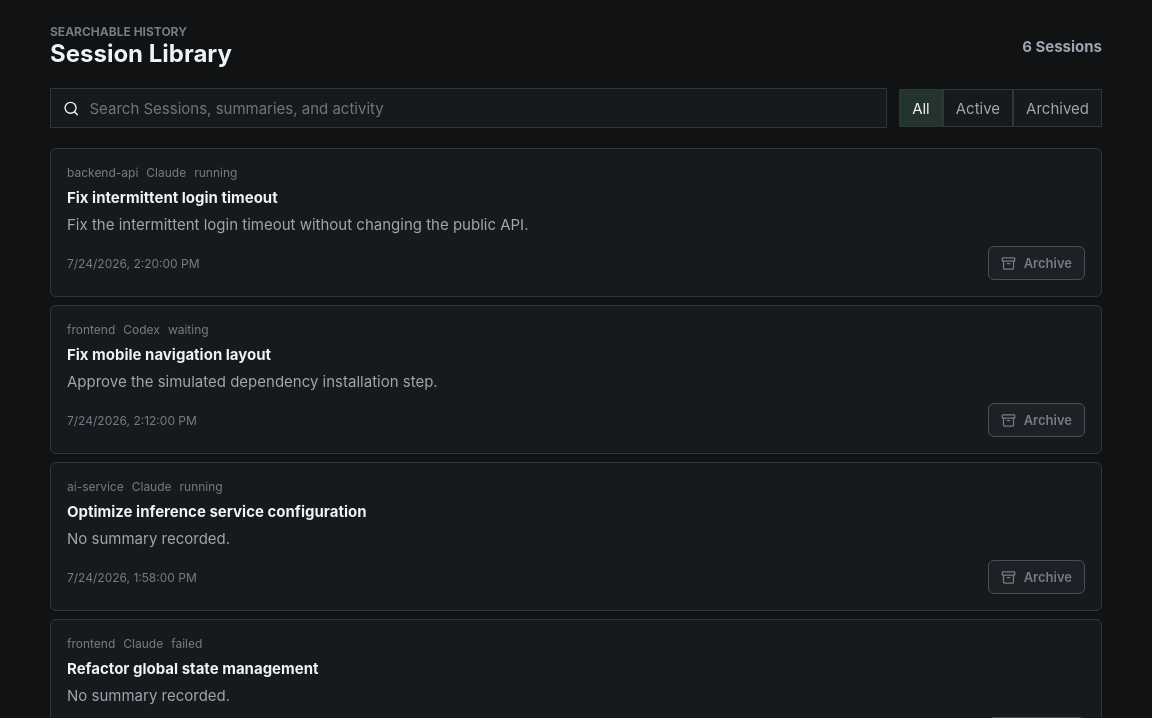
it: SessionLibraryPage › switches archive scopes and gives a clear empty result for a non-matching search
Expected: the heading "Session Library" is shown, [50,39,232,68]
Click the tab "Archived" at (1058, 108), box [1013,89,1102,127]
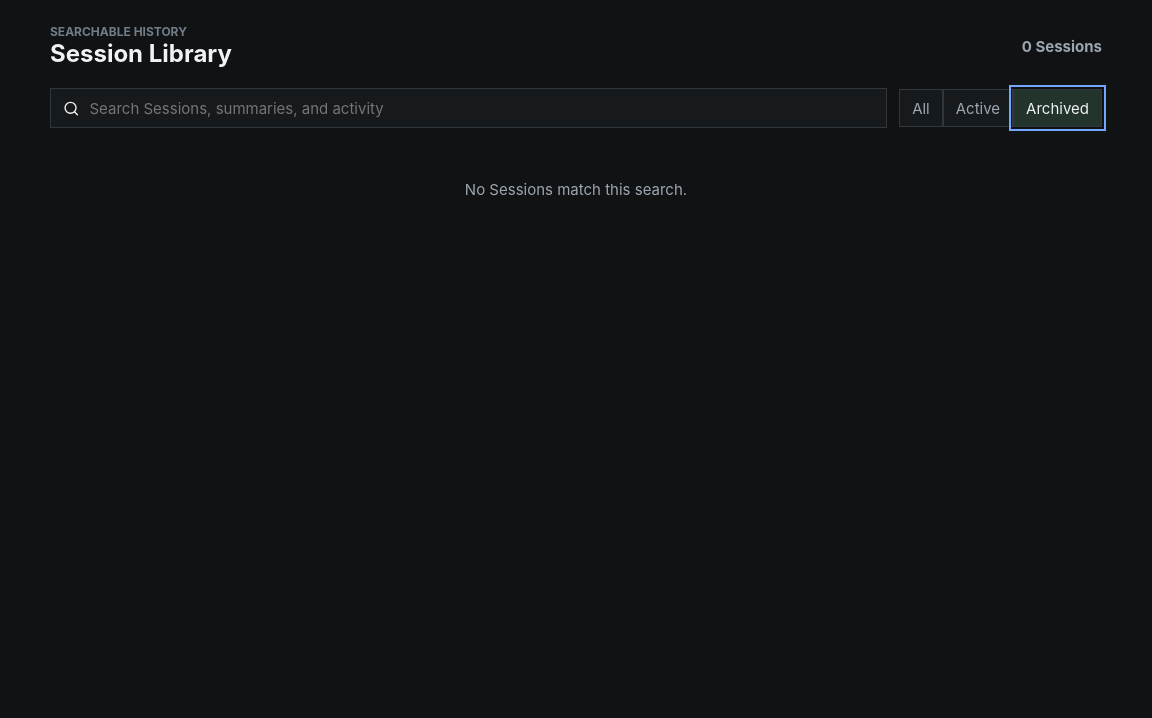
Expected: the text "No Sessions match this search." is shown, [465,180,687,199]
Click the tab "Active" at (978, 108), box [943,89,1013,127]
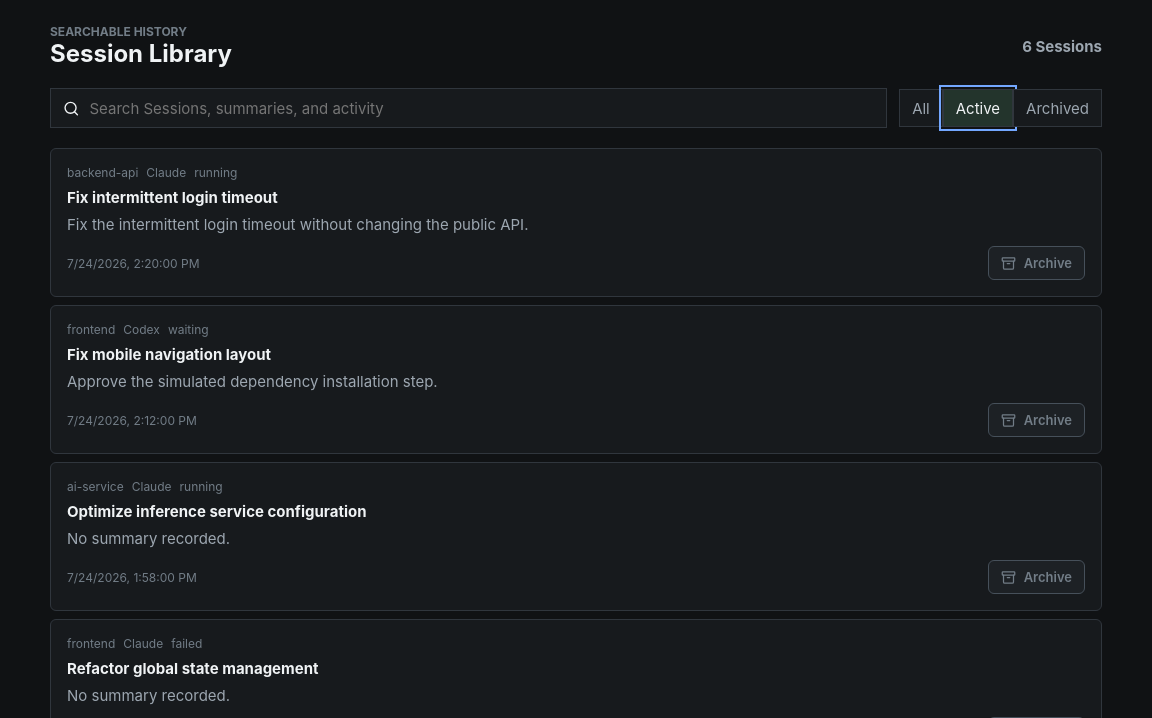
Expected: the text "6 Sessions" is shown, [1022,36,1102,56]
Type "no such run" into the field with placeholder "Search Sessions, summaries, and activity" at (481, 108), box [88,89,874,127]
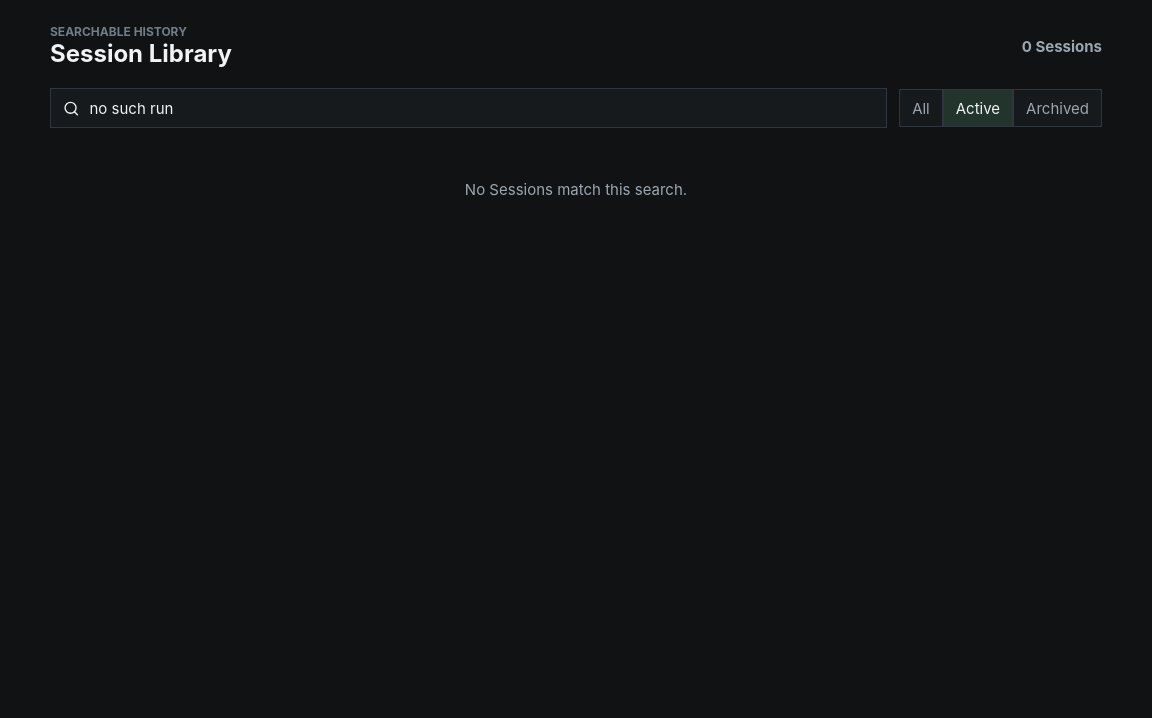
Expected: the text "No Sessions match this search." is shown, [465,180,687,199]
